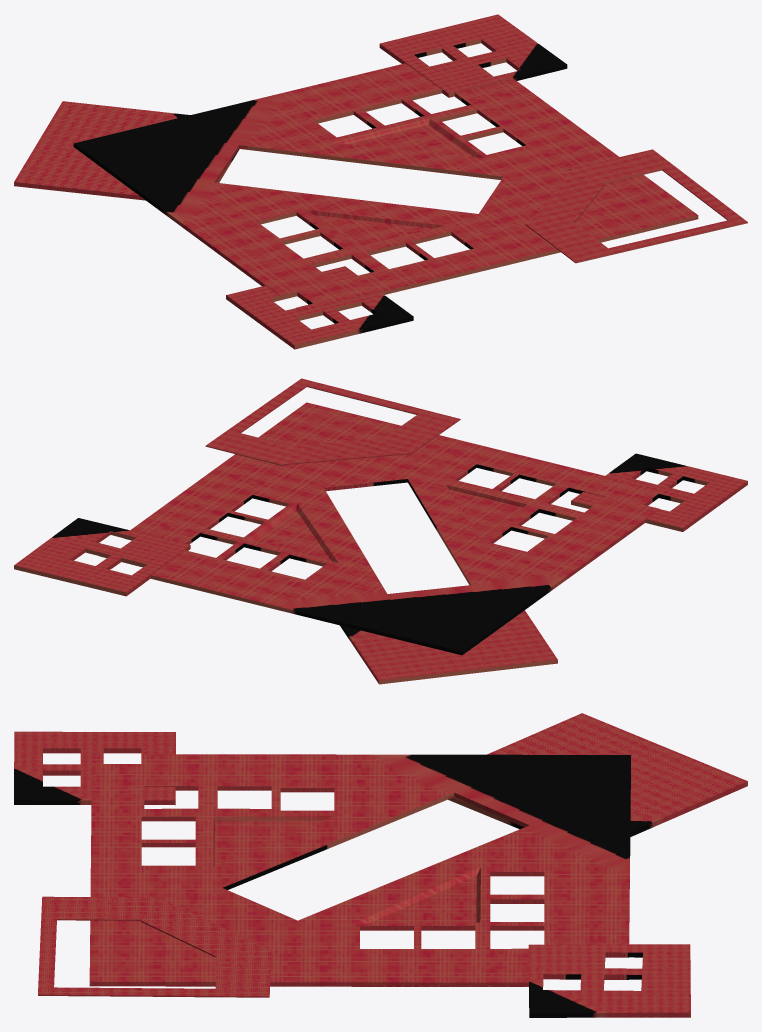
3 views of the same model, one above another, from view 1: azimuth 30°, elevation 25°; view 2: azimuth 150°, elevation 25°; view 3: azimuth 270°, elevation 25° (orthographic). The views are drawn at different scales.
Visible parts, largest first — view 1: Cube.017, Cube.015, Cube.026; view 2: Cube.017, Cube.026, Cube.015; view 3: Cube.017, Cube.015, Cube.026.
Part boxes in pixels (box(x1,y1,x2,y2)): Cube.017: box(73, 14, 698, 349); Cube.015: box(525, 149, 747, 263); Cube.026: box(14, 101, 239, 200); Cube.017: box(14, 402, 747, 655); Cube.026: box(340, 610, 557, 684); Cube.015: box(205, 378, 460, 466); Cube.017: box(14, 731, 690, 1017); Cube.015: box(38, 896, 271, 997); Cube.026: box(448, 713, 747, 836).
Bounding box in the file's own units: 268 × 5.16 × 272.
Materials: 3 (3 with a texture image).
